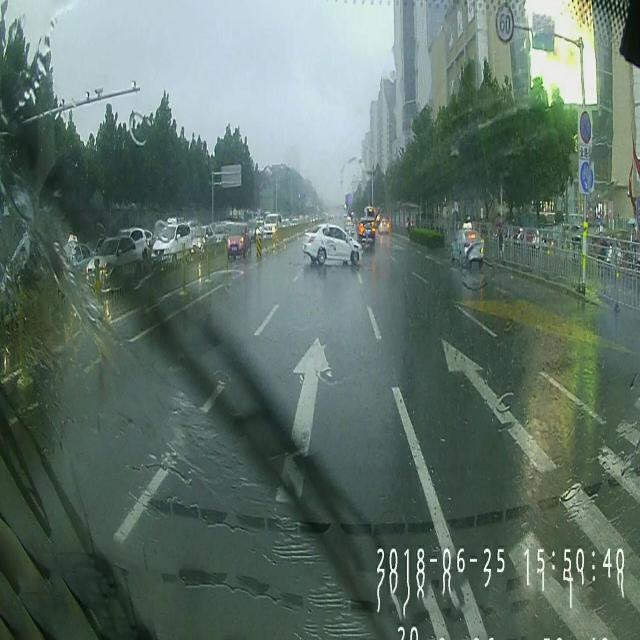car: (298, 224, 362, 266), (450, 220, 484, 270), (226, 221, 253, 257), (359, 217, 377, 250), (380, 219, 390, 232)
